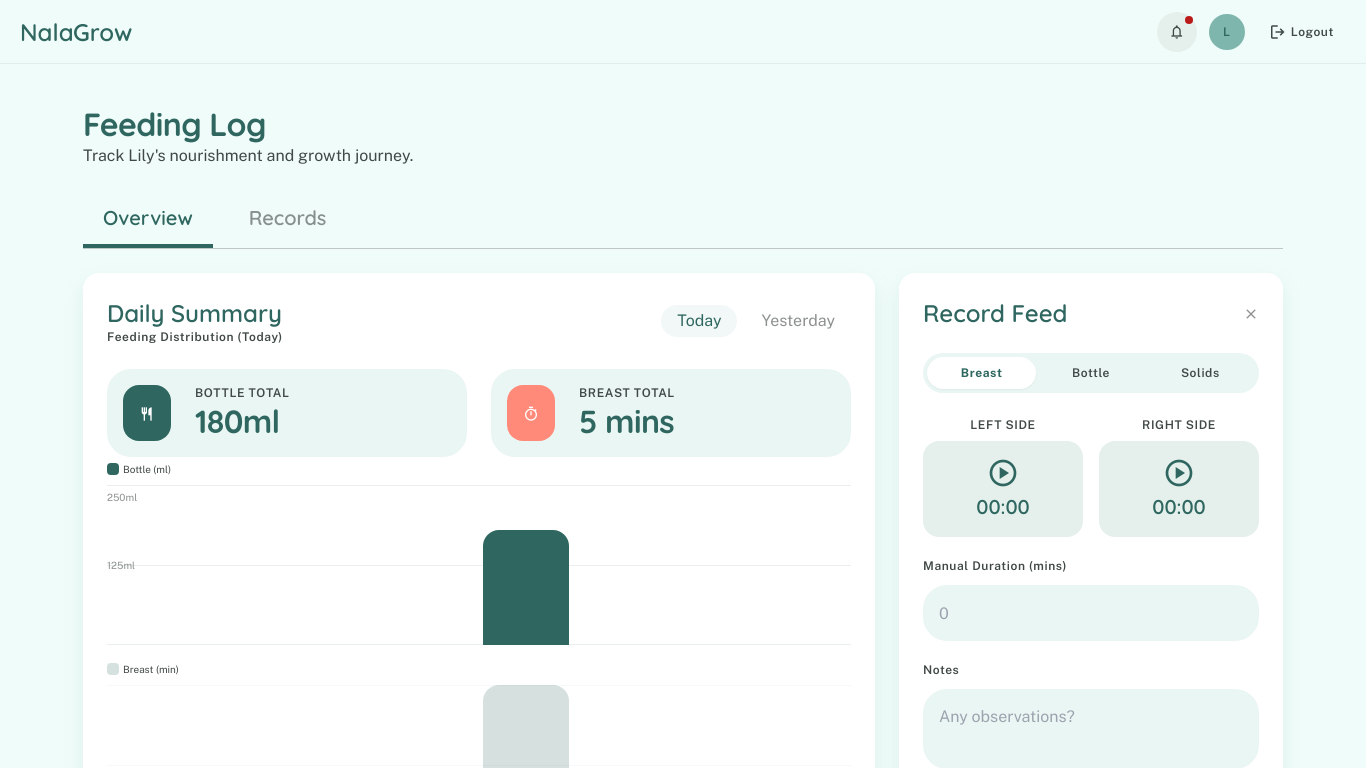
Test: FeedingPage › AZH-384 interactive controls › filters the detailed history by feeding type
Click the tab "records". click: (288, 220)
box: 229,192 -> 346,248
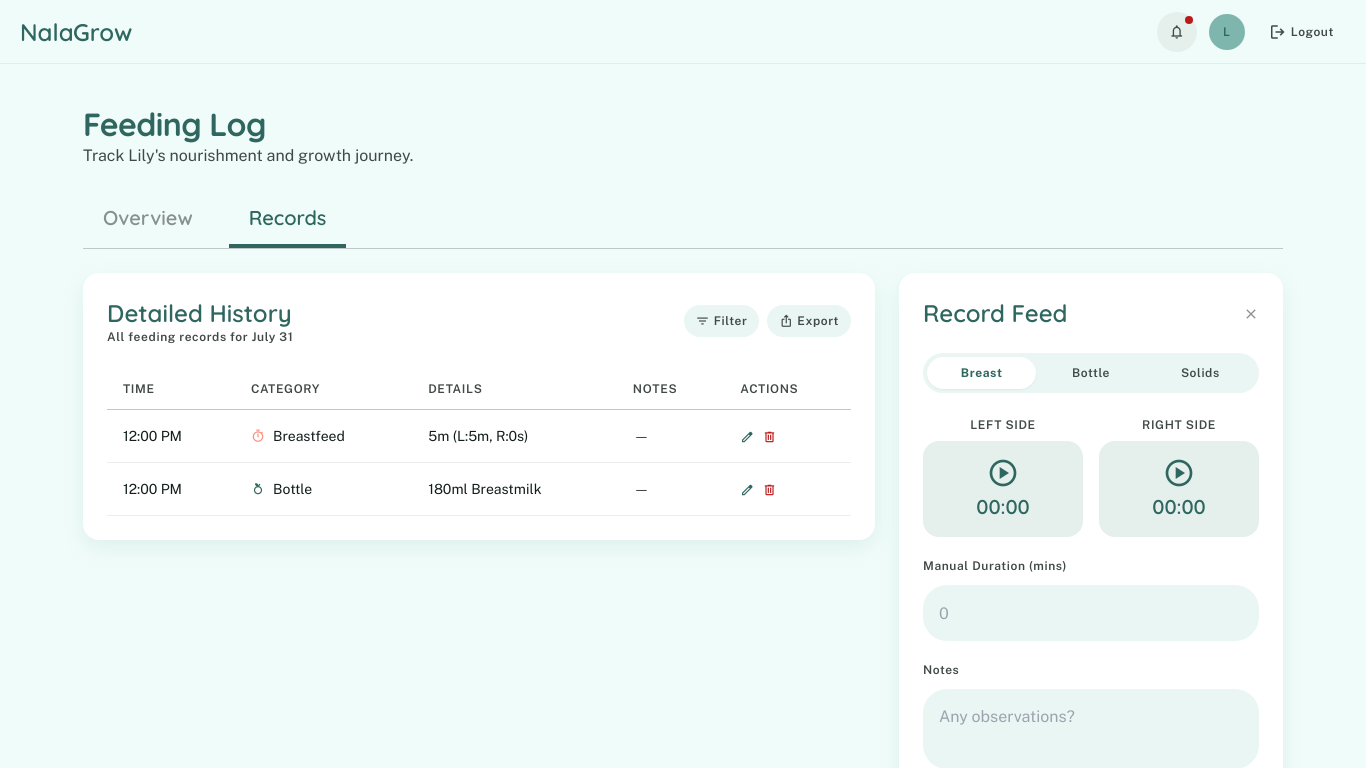
Click the button "Filter". click: (721, 321)
box: 684,305 -> 759,337
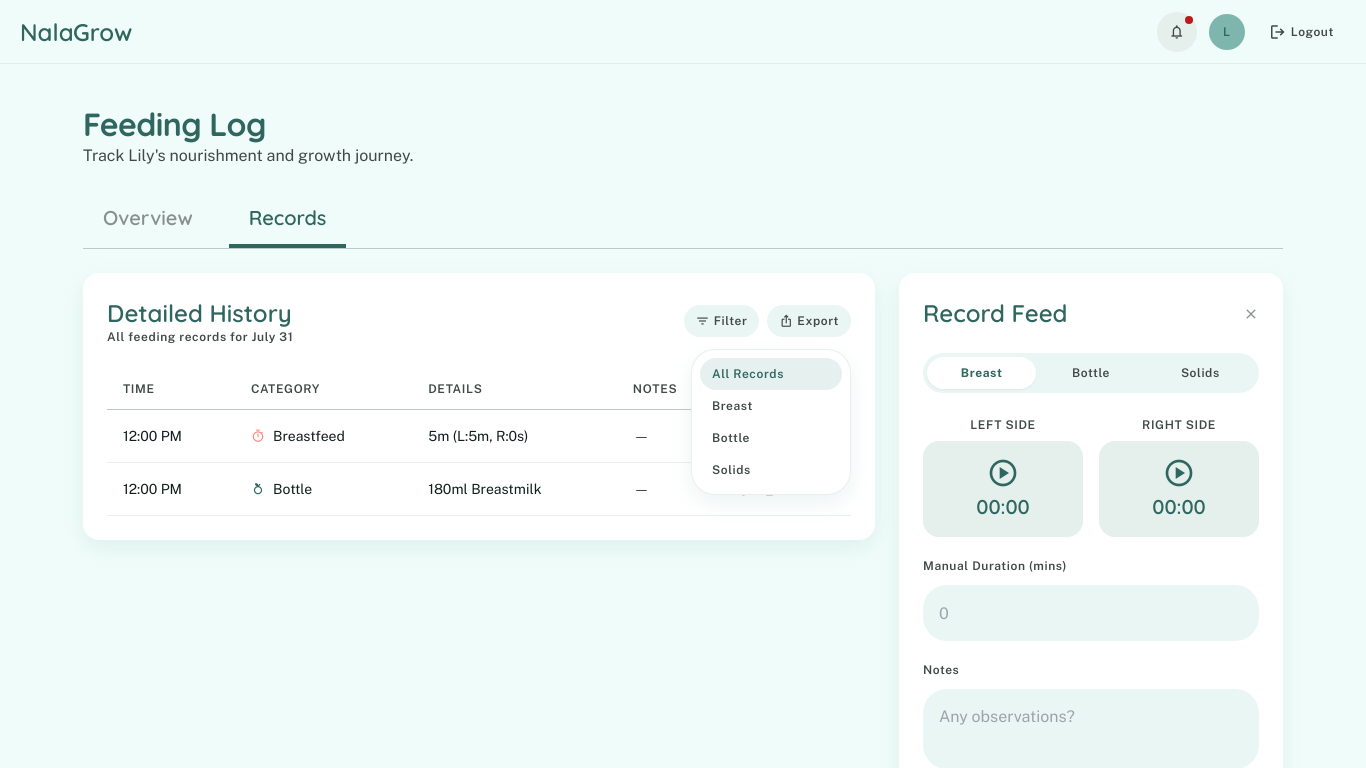
Click the button "breast". click: (771, 406)
box: 700,390 -> 842,422
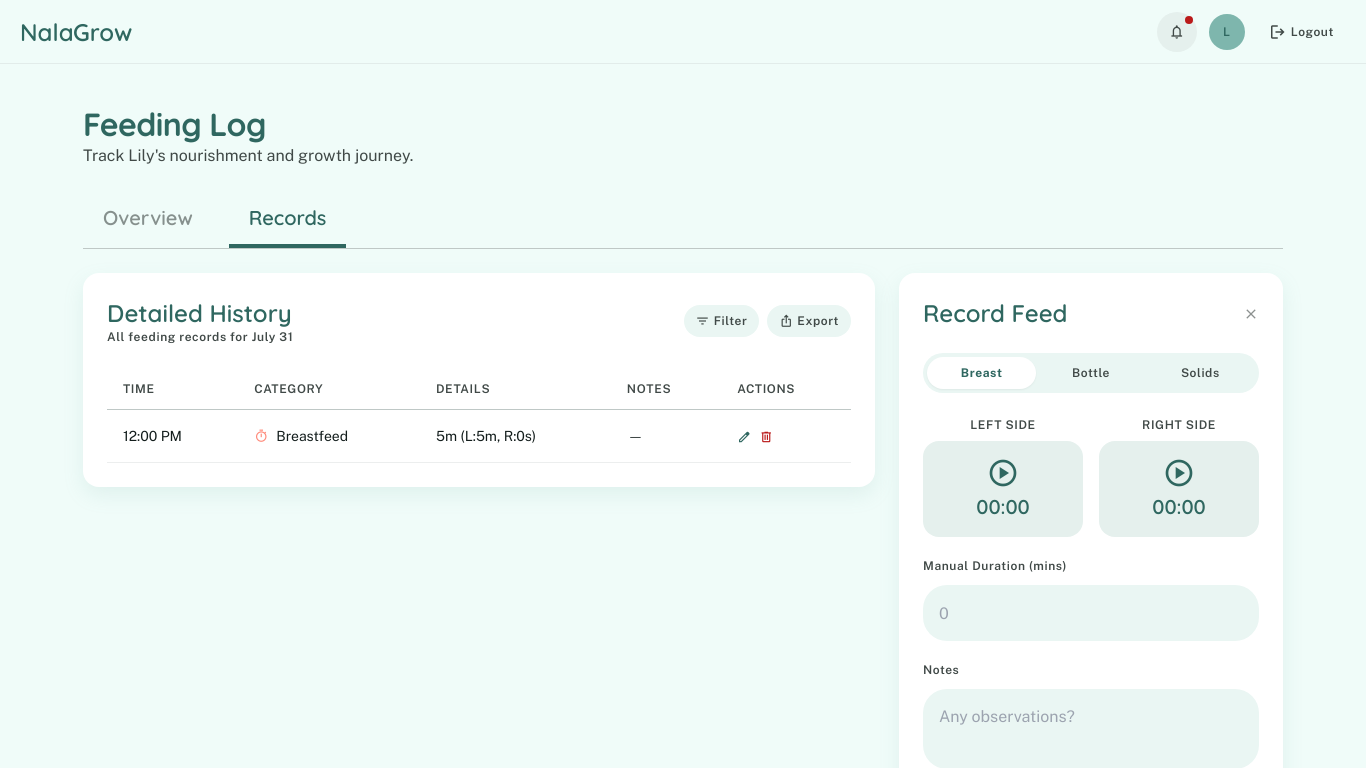
Check: the text "Breastfeed" is shown, box 254,428 -> 348,444
Check: the text "180ml Breastmilk" is gone
